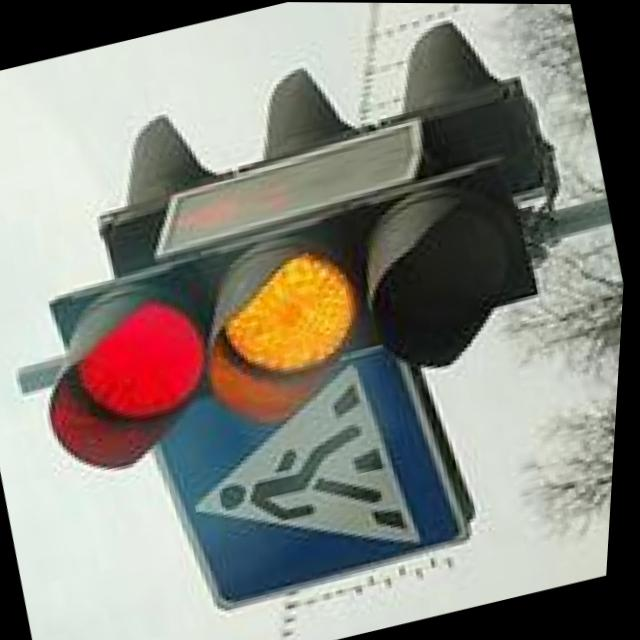red_light: (28, 260, 241, 473)
yellow_light: (197, 200, 412, 485)
